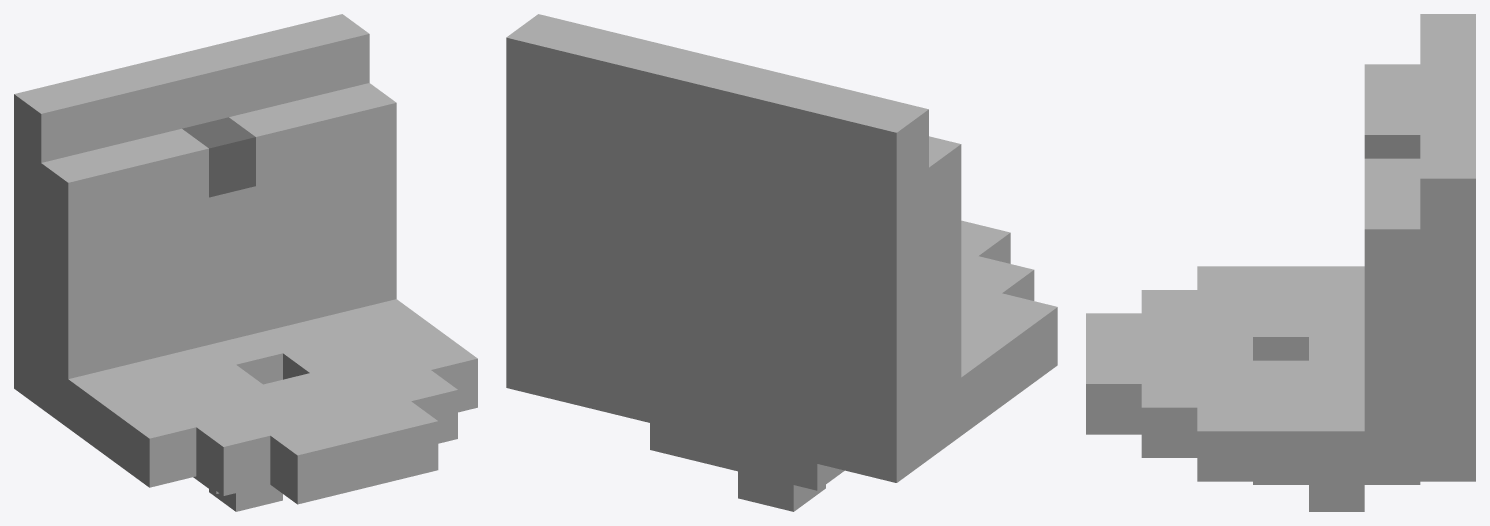
The model's file is toilet.obj.
The picture shows the model from 3 angles, left to right: view 1: azimuth 30°, elevation 25°; view 2: azimuth 150°, elevation 25°; view 3: azimuth 270°, elevation 25°; orthographic projection. The views are drawn at different scales.
Size of the model in its own units: 0.7 by 0.8 by 0.7.
1 material, 1 textured.
